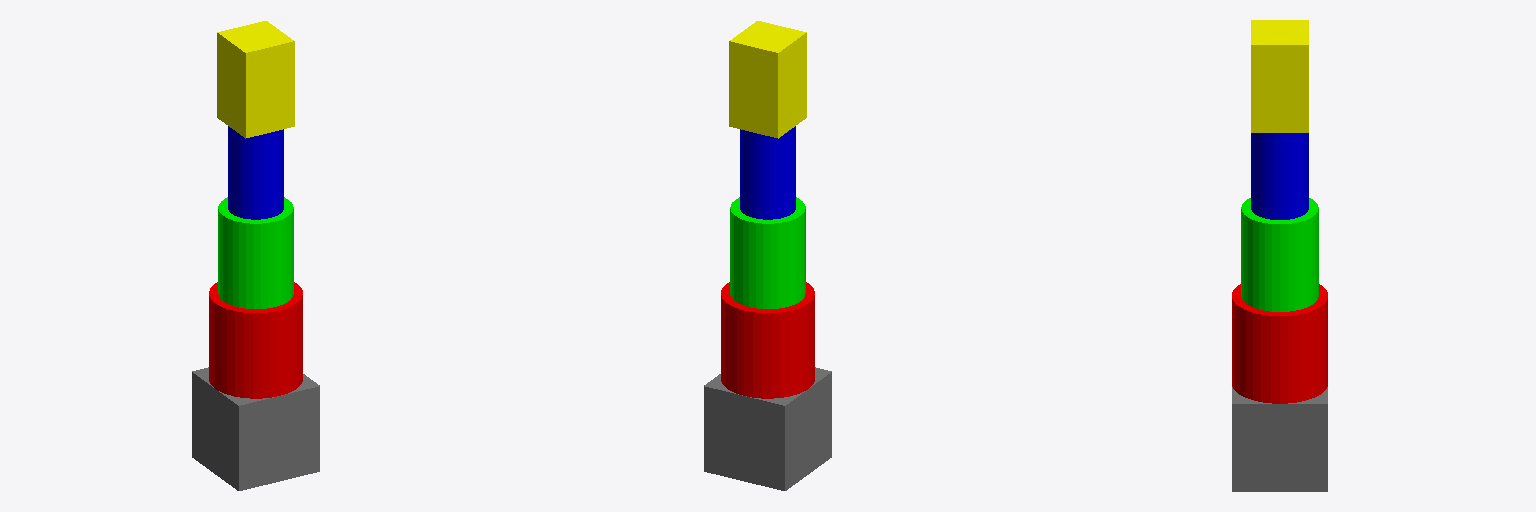
URDF robot description (simple_robot):
<?xml version="1.0"?>
<robot name="simple_robot">
  
  <!-- Base Link -->
  <link name="base_link">
    <visual>
      <origin xyz="0 0 0" rpy="0 0 0"/>
      <geometry>
        <box size="0.1 0.1 0.1"/>
      </geometry>
      <material name="base_material">
        <color rgba="0.5 0.5 0.5 1"/>
      </material>
    </visual>
    <inertial>
      <origin xyz="0 0 0" rpy="0 0 0"/>
      <mass value="1.0"/>
      <inertia ixx="0.1" ixy="0" ixz="0" iyy="0.1" iyz="0" izz="0.1"/>
    </inertial>
  </link>

  <!-- Link 1 -->
  <link name="link1">
    <visual>
      <origin xyz="0 0 0.05" rpy="0 0 0"/>
      <geometry>
        <cylinder radius="0.05" length="0.1"/>
      </geometry>
      <material name="link1_material">
        <color rgba="1 0 0 1"/>
      </material>
    </visual>
    <inertial>
      <origin xyz="0 0 0.05" rpy="0 0 0"/>
      <mass value="0.5"/>
      <inertia ixx="0.01" ixy="0" ixz="0" iyy="0.01" iyz="0" izz="0.01"/>
    </inertial>
  </link>

  <!-- Link 2 -->
  <link name="link2">
    <visual>
      <origin xyz="0 0 0.05" rpy="0 0 0"/>
      <geometry>
        <cylinder radius="0.04" length="0.1"/>
      </geometry>
      <material name="link2_material">
        <color rgba="0 1 0 1"/>
      </material>
    </visual>
    <inertial>
      <origin xyz="0 0 0.05" rpy="0 0 0"/>
      <mass value="0.4"/>
      <inertia ixx="0.008" ixy="0" ixz="0" iyy="0.008" iyz="0" izz="0.008"/>
    </inertial>
  </link>

  <!-- Link 3 -->
  <link name="link3">
    <visual>
      <origin xyz="0 0 0.05" rpy="0 0 0"/>
      <geometry>
        <cylinder radius="0.03" length="0.1"/>
      </geometry>
      <material name="link3_material">
        <color rgba="0 0 1 1"/>
      </material>
    </visual>
    <inertial>
      <origin xyz="0 0 0.05" rpy="0 0 0"/>
      <mass value="0.3"/>
      <inertia ixx="0.006" ixy="0" ixz="0" iyy="0.006" iyz="0" izz="0.006"/>
    </inertial>
  </link>

  <!-- End Effector -->
  <link name="tool0">
    <visual>
      <origin xyz="0 0 0.05" rpy="0 0 0"/>
      <geometry>
        <box size="0.06 0.06 0.1"/>
      </geometry>
      <material name="tool_material">
        <color rgba="1 1 0 1"/>
      </material>
    </visual>
    <inertial>
      <origin xyz="0 0 0.05" rpy="0 0 0"/>
      <mass value="0.2"/>
      <inertia ixx="0.004" ixy="0" ixz="0" iyy="0.004" iyz="0" izz="0.004"/>
    </inertial>
  </link>

  <!-- Joint 1: Base to Link1 -->
  <joint name="joint1" type="revolute">
    <parent link="base_link"/>
    <child link="link1"/>
    <origin xyz="0 0 0.05" rpy="0 0 0"/>
    <axis xyz="0 0 1"/>
    <limit lower="-3.14159" upper="3.14159" effort="10" velocity="1"/>
  </joint>

  <!-- Joint 2: Link1 to Link2 -->
  <joint name="joint2" type="revolute">
    <parent link="link1"/>
    <child link="link2"/>
    <origin xyz="0 0 0.1" rpy="0 0 0"/>
    <axis xyz="0 1 0"/>
    <limit lower="-1.57" upper="1.57" effort="10" velocity="1"/>
  </joint>

  <!-- Joint 3: Link2 to Link3 -->
  <joint name="joint3" type="revolute">
    <parent link="link2"/>
    <child link="link3"/>
    <origin xyz="0 0 0.1" rpy="0 0 0"/>
    <axis xyz="0 1 0"/>
    <limit lower="-1.57" upper="1.57" effort="10" velocity="1"/>
  </joint>

  <!-- Joint 4: Link3 to Tool -->
  <joint name="joint4" type="revolute">
    <parent link="link3"/>
    <child link="tool0"/>
    <origin xyz="0 0 0.1" rpy="0 0 0"/>
    <axis xyz="0 0 1"/>
    <limit lower="-3.14159" upper="3.14159" effort="10" velocity="1"/>
  </joint>

</robot>

--- Render facts (derived) ---
Views: 3 orthographic renders of the robot side by side, from view 1: azimuth 30°, elevation 25°; view 2: azimuth 150°, elevation 25°; view 3: azimuth 270°, elevation 25°.
Robot: simple_robot — 5 links, 4 joints (4 revolute); root link base_link; default pose: all joints at 0.
Visible links, largest first — view 1: base_link, link1, tool0, link2, link3; view 2: base_link, link1, tool0, link2, link3; view 3: link1, base_link, link2, tool0, link3.
Link boxes in pixels (bbox=[...]): base_link: bbox=[192, 367, 319, 490]; link1: bbox=[209, 282, 302, 398]; tool0: bbox=[217, 21, 294, 138]; link2: bbox=[218, 197, 293, 308]; link3: bbox=[228, 126, 283, 219]; base_link: bbox=[704, 367, 831, 490]; link1: bbox=[721, 282, 814, 398]; tool0: bbox=[729, 21, 806, 138]; link2: bbox=[730, 197, 805, 308]; link3: bbox=[740, 126, 795, 219]; link1: bbox=[1232, 284, 1327, 403]; base_link: bbox=[1232, 387, 1327, 491]; link2: bbox=[1241, 198, 1318, 311]; tool0: bbox=[1251, 20, 1308, 132]; link3: bbox=[1251, 133, 1308, 219].
Bounding box of the posed robot: 0.1 × 0.1 × 0.5 m (x, y, z).
Geometry: primitives only (box / cylinder / sphere), no mesh files.
